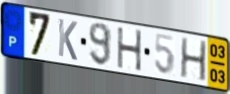5: (154, 31, 177, 77)
7: (27, 9, 52, 58)
9: (88, 22, 114, 69)
H: (178, 36, 208, 83), (116, 26, 144, 73)
K: (57, 17, 79, 63)
